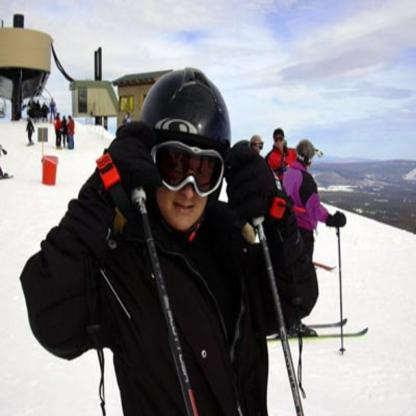Helmet: (138, 65, 224, 240), (295, 139, 329, 169), (247, 130, 264, 152)
